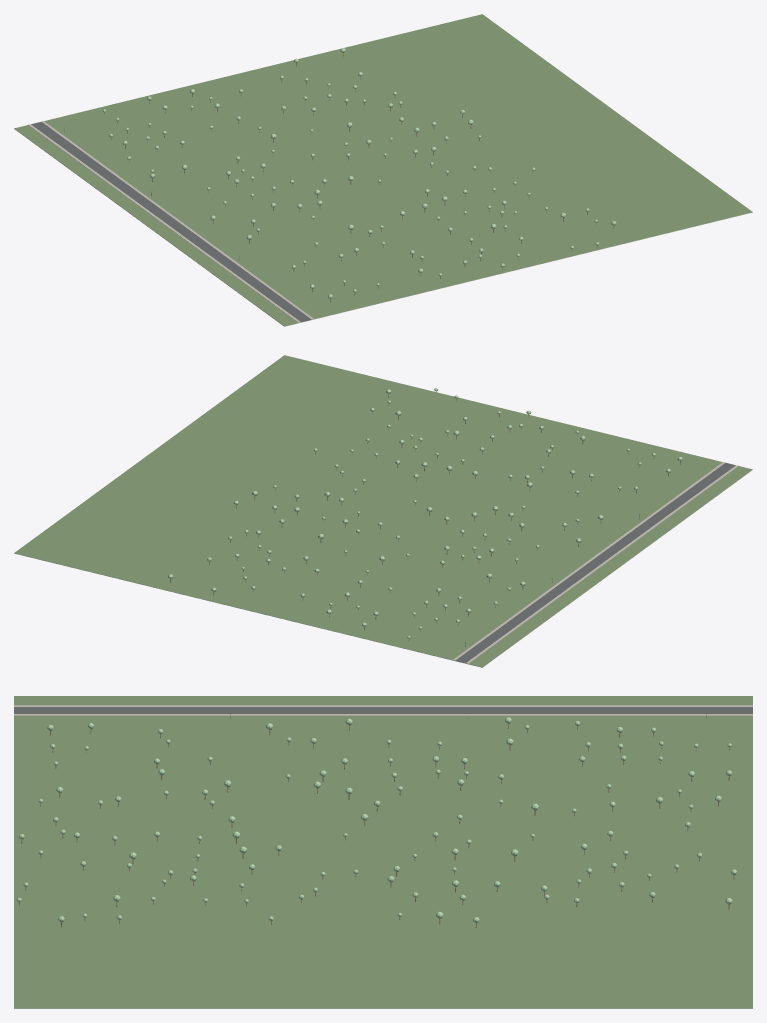
File: chunk_2_3_high.glb
3 renders of one model, top to bottom at view 1: azimuth 30°, elevation 25°; view 2: azimuth 150°, elevation 25°; view 3: azimuth 270°, elevation 25°, orthographic. The views are drawn at different scales.
Parts seen in each view (by area): view 1: city_forest_floor, city_world_asphalt, city_foliage, city_world_sidewalk, city_grass, city_foliage_dark, city_curb; view 2: city_forest_floor, city_world_asphalt, city_foliage, city_world_sidewalk, city_foliage_dark, city_grass, city_bark, city_curb; view 3: city_forest_floor, city_world_asphalt, city_foliage, city_world_sidewalk, city_foliage_dark, city_bark, city_curb, city_grass.
Boxes of the visible parts, x1,y1,x2,y2 form: city_forest_floor: [14, 14, 752, 326]; city_world_asphalt: [31, 122, 311, 322]; city_foliage: [103, 48, 616, 298]; city_world_sidewalk: [28, 121, 313, 322]; city_grass: [14, 129, 752, 326]; city_foliage_dark: [103, 49, 616, 298]; city_curb: [31, 121, 311, 321]; city_forest_floor: [14, 355, 752, 667]; city_world_asphalt: [455, 463, 735, 663]; city_foliage: [168, 388, 681, 638]; city_world_sidewalk: [453, 462, 738, 663]; city_foliage_dark: [168, 388, 682, 638]; city_grass: [14, 470, 752, 667]; city_bark: [170, 391, 680, 640]; city_curb: [455, 462, 735, 662]; city_forest_floor: [14, 696, 752, 1008]; city_world_asphalt: [14, 707, 752, 713]; city_foliage: [16, 717, 737, 922]; city_world_sidewalk: [14, 705, 752, 715]; city_foliage_dark: [18, 719, 736, 922]; city_bark: [19, 723, 734, 927]; city_curb: [14, 705, 752, 715]; city_grass: [14, 1008, 752, 1008].
Bounding box in the file's own units: 512 × 9.77 × 512.
